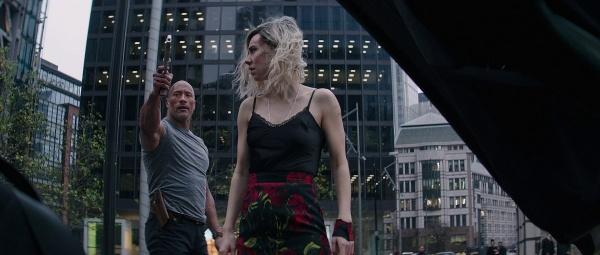Gun: (160, 34, 174, 95)
